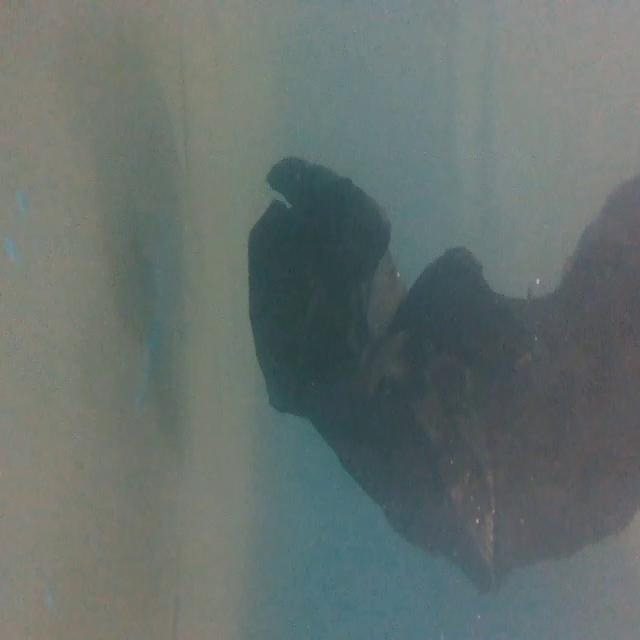plastic bags: (229, 150, 640, 577)
